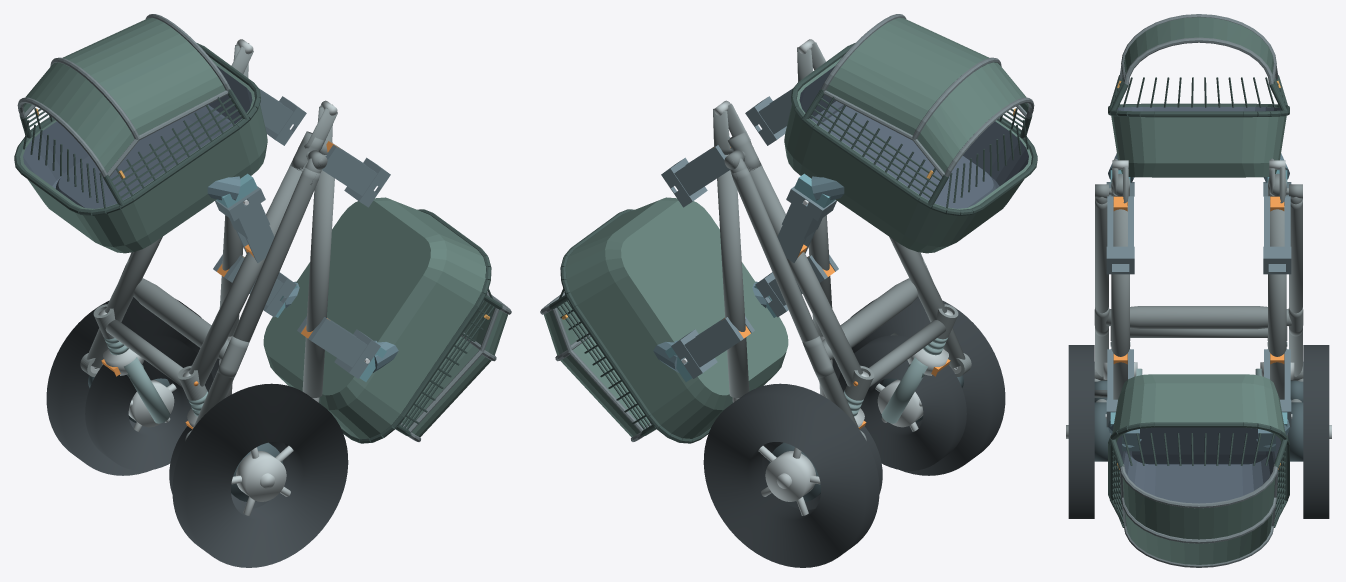
Rendered from D01_w380_state3_wheel_M.glb.
The picture shows the model from 3 angles, left to right: view 1: azimuth 30°, elevation 25°; view 2: azimuth 150°, elevation 25°; view 3: azimuth 270°, elevation 25°; orthographic projection. The views are drawn at different scales.
Parts seen in each view (by area): view 1: D01_Lower, D01_Upper, RL_tire.013, FR_tire.013, RR_tire.013, V46_rear_leg_-1, main_upper_-1.001, main_lower_-1.001, Universal_Cabin_Receiver_H_-1, V46_rearbar, Universal_Cabin_Receiver_M_-1, Universal_Cabin_Receiver_L_-1 (+12 smaller); view 2: D01_Lower, D01_Upper, RR_tire.013, FL_tire.013, RL_tire.013, V46_rear_leg_1, main_upper_1.001, main_lower_1.001, Universal_Cabin_Receiver_H_1, V46_rearbar, Universal_Cabin_Receiver_M_1, Universal_Cabin_Receiver_L_1 (+14 smaller); view 3: D01_Upper, D01_Lower, RL_tire.013, RR_tire.013, V46_rearbar, main_upper_1.001, main_upper_-1.001, V46_rear_leg_1, V46_rear_leg_-1, Universal_Cabin_Receiver_M_-1, Universal_Cabin_Receiver_M_1, front_fixed_round_tube.012 (+7 smaller).
Part boxes in pixels (x1=…): D01_Lower: x1=14, y1=14, x2=267, y2=253; D01_Upper: x1=263, y1=197, x2=511, y2=443; RL_tire.013: x1=172, y1=383, x2=348, y2=567; FR_tire.013: x1=85, y1=335, x2=213, y2=470; RR_tire.013: x1=46, y1=297, x2=219, y2=475; V46_rear_leg_-1: x1=193, y1=167, x2=320, y2=428; main_upper_-1.001: x1=302, y1=154, x2=334, y2=397; main_lower_-1.001: x1=189, y1=162, x2=307, y2=386; Universal_Cabin_Receiver_H_-1: x1=297, y1=316, x2=380, y2=378; V46_rearbar: x1=133, y1=278, x2=229, y2=359; Universal_Cabin_Receiver_M_-1: x1=322, y1=143, x2=390, y2=207; Universal_Cabin_Receiver_L_-1: x1=215, y1=186, x2=274, y2=262; D01_Lower: x1=784, y1=14, x2=1037, y2=253; D01_Upper: x1=540, y1=197, x2=788, y2=443; RR_tire.013: x1=703, y1=383, x2=879, y2=567; FL_tire.013: x1=838, y1=335, x2=966, y2=470; RL_tire.013: x1=832, y1=297, x2=1005, y2=475; V46_rear_leg_1: x1=731, y1=167, x2=858, y2=428; main_upper_1.001: x1=717, y1=154, x2=749, y2=397; main_lower_1.001: x1=744, y1=162, x2=862, y2=386; Universal_Cabin_Receiver_H_1: x1=671, y1=316, x2=754, y2=378; V46_rearbar: x1=822, y1=278, x2=918, y2=359; Universal_Cabin_Receiver_M_1: x1=661, y1=136, x2=730, y2=207; Universal_Cabin_Receiver_L_1: x1=777, y1=186, x2=836, y2=262; D01_Upper: x1=1108, y1=374, x2=1289, y2=567; D01_Lower: x1=1108, y1=14, x2=1289, y2=177; RL_tire.013: x1=1068, y1=345, x2=1094, y2=518; RR_tire.013: x1=1303, y1=345, x2=1329, y2=518; V46_rearbar: x1=1106, y1=306, x2=1291, y2=329; main_upper_1.001: x1=1268, y1=206, x2=1286, y2=399; main_upper_-1.001: x1=1111, y1=206, x2=1129, y2=399; V46_rear_leg_1: x1=1289, y1=199, x2=1302, y2=376; V46_rear_leg_-1: x1=1095, y1=199, x2=1108, y2=376; Universal_Cabin_Receiver_M_-1: x1=1106, y1=196, x2=1134, y2=274; Universal_Cabin_Receiver_M_1: x1=1263, y1=196, x2=1291, y2=274; front_fixed_round_tube.012: x1=1130, y1=328, x2=1267, y2=337.
Size of the model in its own units: 0.8263 by 0.8784 by 0.458.
